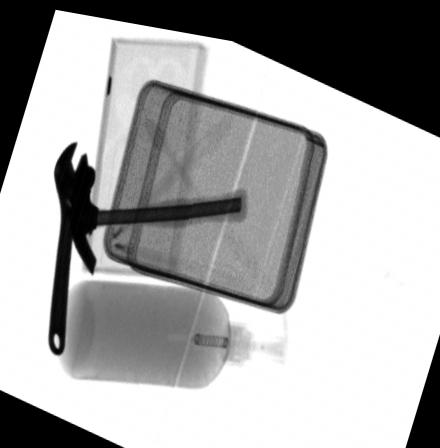Hammer: (67, 161, 248, 270)
Wrench: (48, 137, 89, 353)
